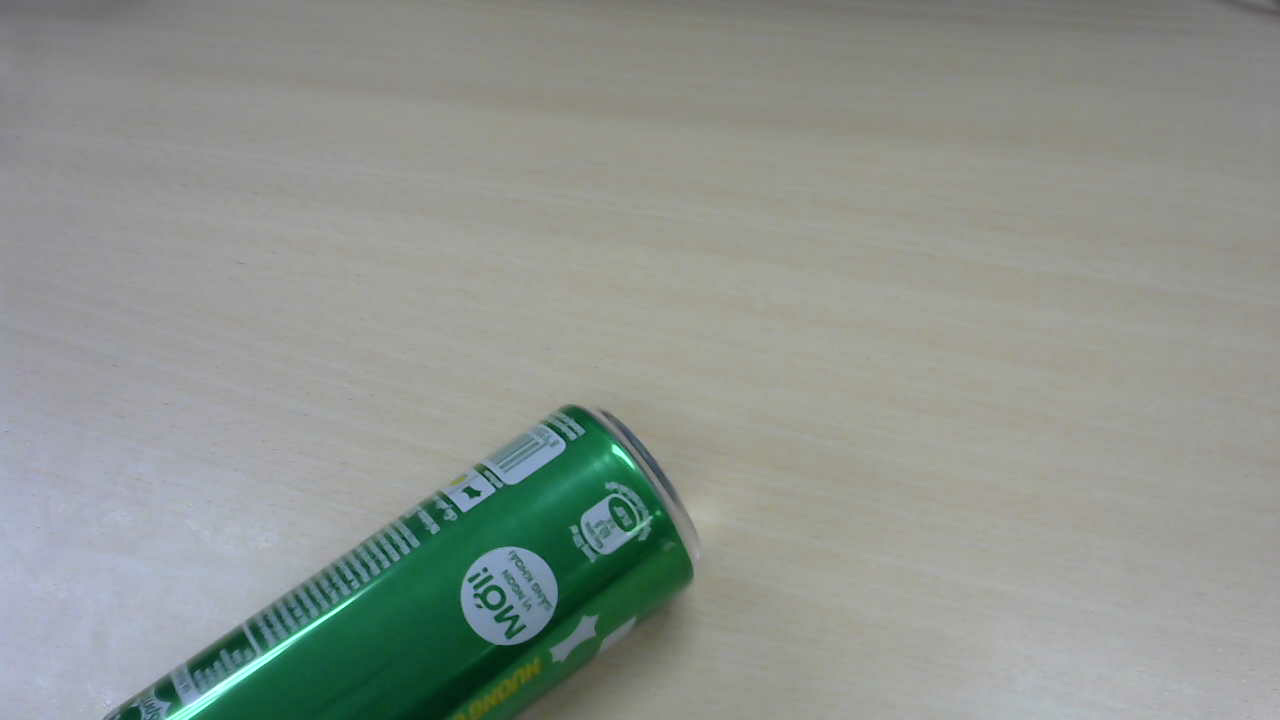Sprite: (125, 403, 708, 700)
